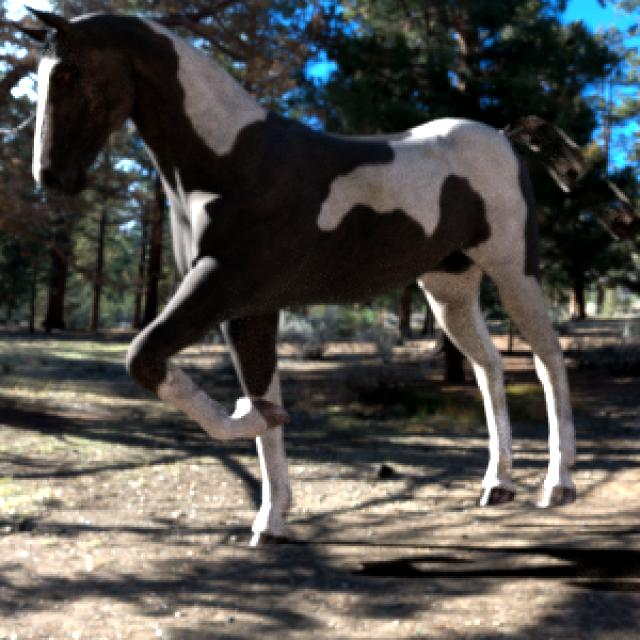horse: (34, 11, 574, 544)
